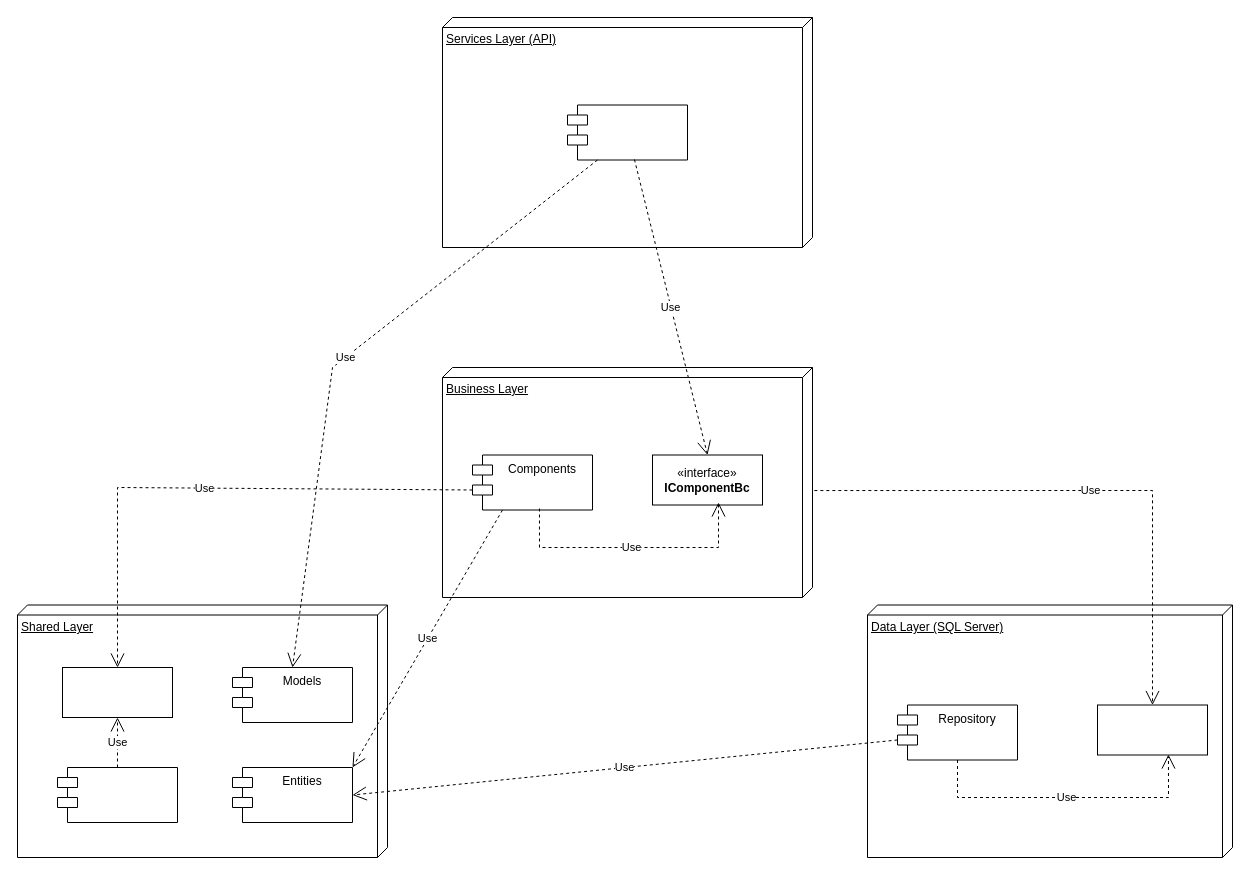
Some shapes in this 1250 by 875 pixel diagram are drawn without their labels. The shapes that lost their labels are listed below. From the top down, each one's centre as x and y in pixels, then its label:
the point at 627,132: Controllers
the point at 117,692: «interface» IEmailSender
the point at 1152,729: «interface» IUnityOfWork
the point at 117,794: Utilities
